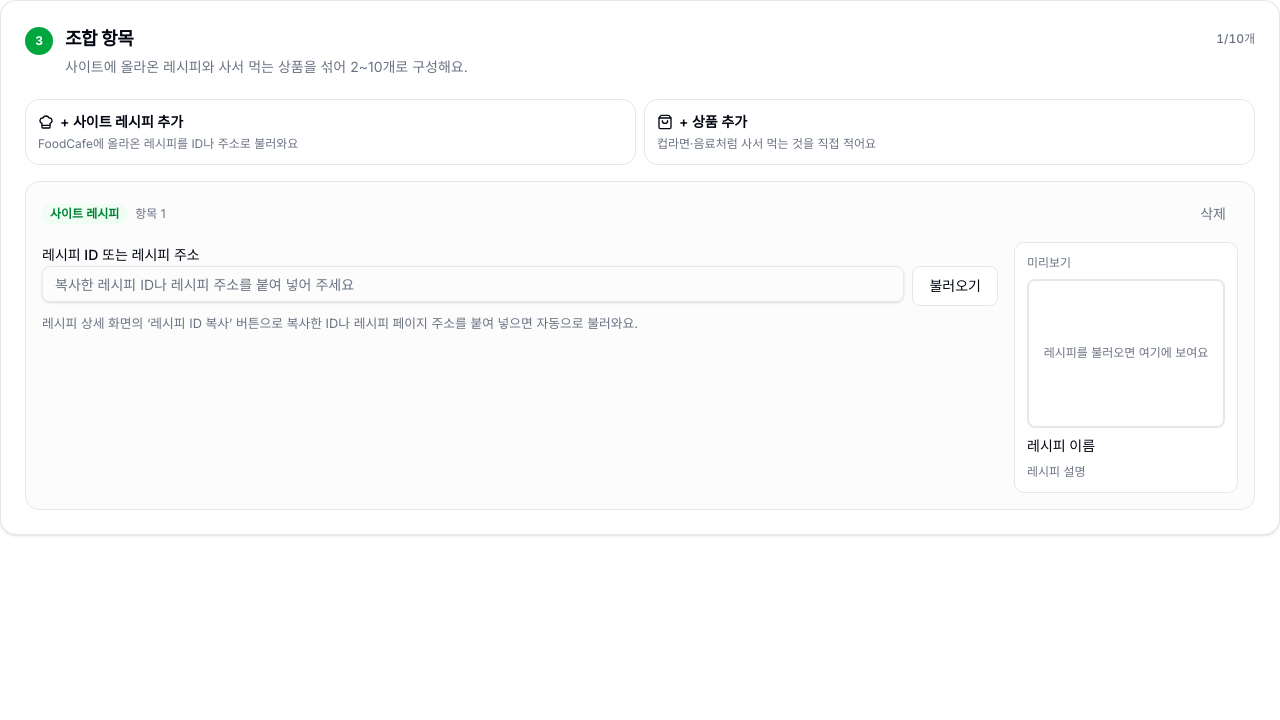
조합 레시피 불러오기 안내 › 빈 입력은 조회하지 않고 한글 오류를 표시한다
The width and height of the screenshot is (1280, 720).
Click the button "불러오기": [955, 286] box [912,266,998,306]
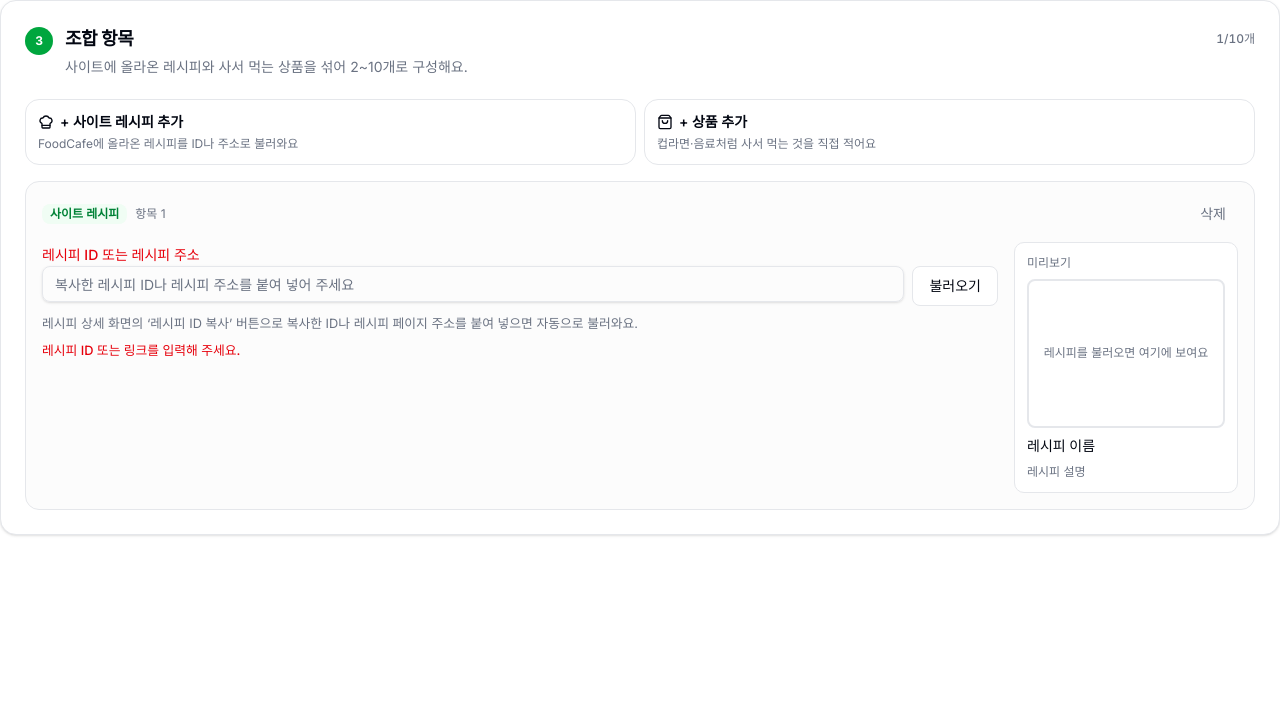
expect the text "레시피 ID 또는 링크를 입력해 주세요." is shown: met, box [42,343,240,358]
